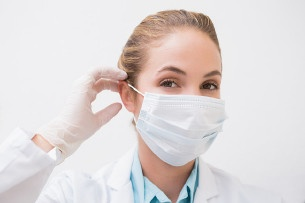Mask: (134, 53, 246, 166)
